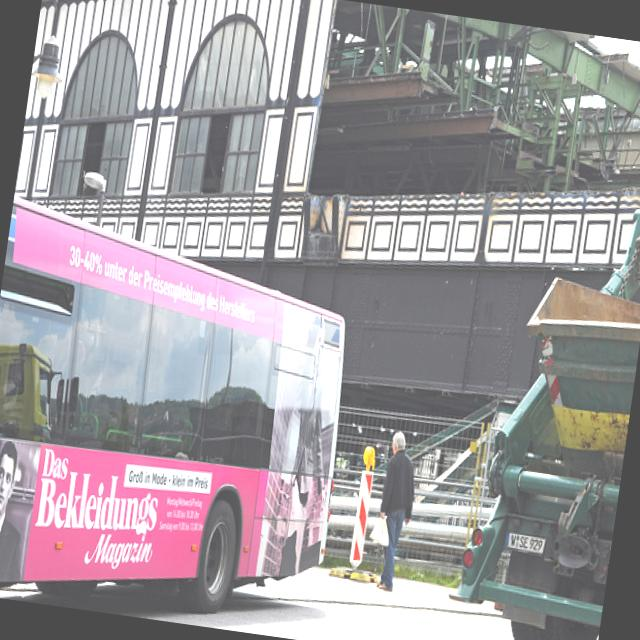Vehicle: (0, 198, 368, 636), (440, 267, 640, 640)
